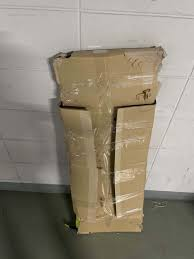damaged package: (50, 47, 162, 234)
